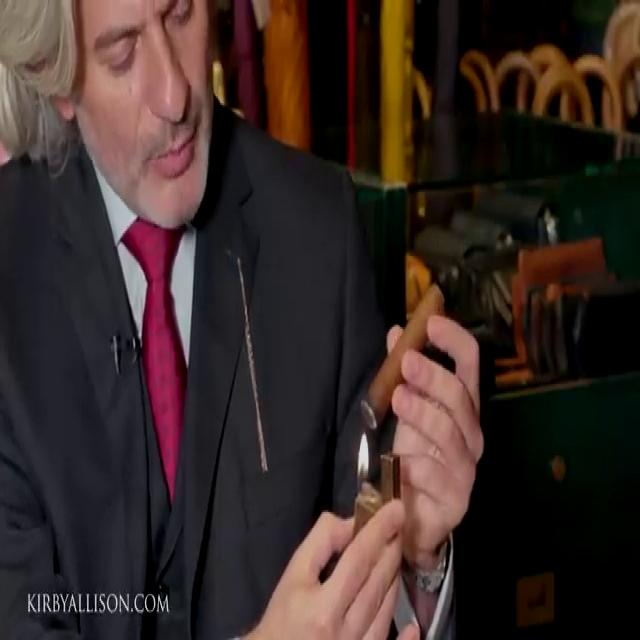Smooking: (344, 260, 459, 503)
